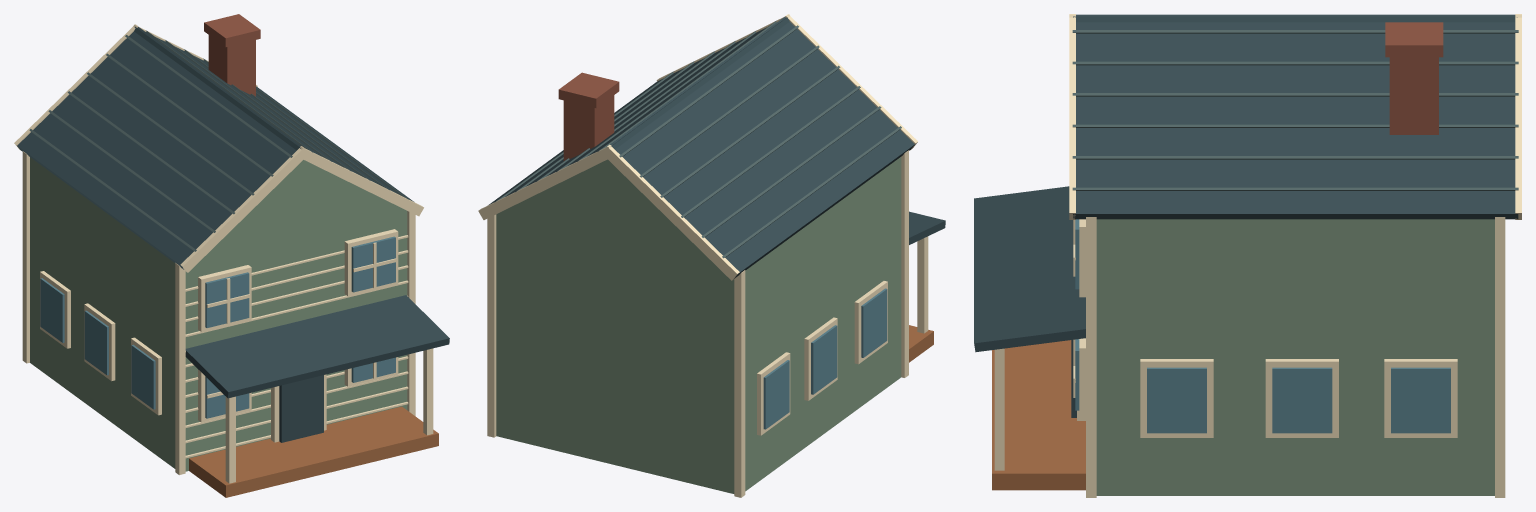
File: farmhouse.glb
The picture shows the model from 3 angles, left to right: view 1: azimuth 30°, elevation 25°; view 2: azimuth 150°, elevation 25°; view 3: azimuth 270°, elevation 25°; orthographic projection. The views are drawn at different scales.
Parts seen in each view (by area): view 1: farmhouse; view 2: farmhouse; view 3: farmhouse.
Boxes of the visible parts, <box> form: farmhouse: <box>14,14,449,497</box>; farmhouse: <box>478,14,945,497</box>; farmhouse: <box>974,14,1521,497</box>.
Size of the model in its own units: 5.67 by 7.19 by 8.31.
